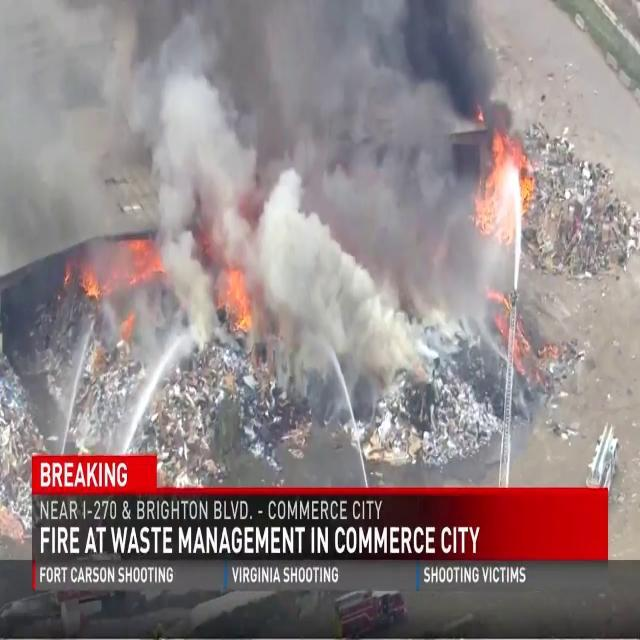Fire: (474, 126, 536, 240), (122, 224, 164, 316), (219, 255, 256, 336)
Smoke: (63, 0, 509, 426)
